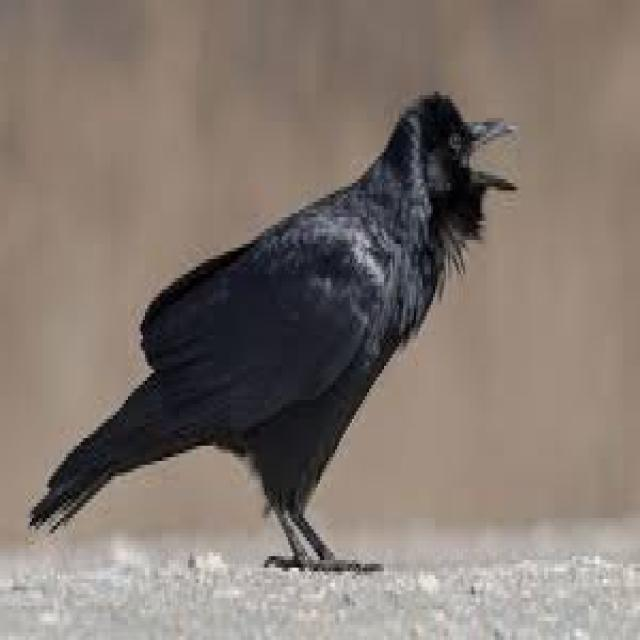crow: (32, 91, 516, 568)
